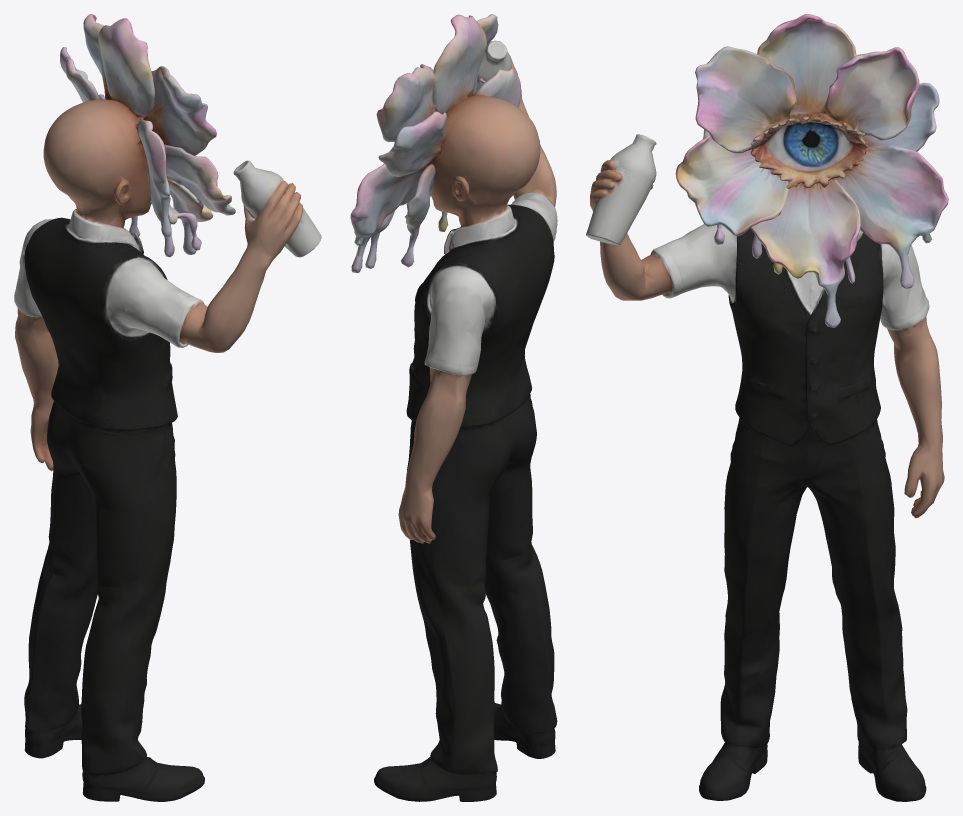
Rendered from bartender.glb.
3 renders of one model, left to right at view 1: azimuth 30°, elevation 25°; view 2: azimuth 150°, elevation 25°; view 3: azimuth 270°, elevation 25°, orthographic. The views are drawn at different scales.
Parts seen in each view (by area): view 1: tripo_node_8f611393-628a-4c04-9a16-76a25f729728; view 2: tripo_node_8f611393-628a-4c04-9a16-76a25f729728; view 3: tripo_node_8f611393-628a-4c04-9a16-76a25f729728.
Boxes of the visible parts, <box> form: tripo_node_8f611393-628a-4c04-9a16-76a25f729728: <box>14,14,321,801</box>; tripo_node_8f611393-628a-4c04-9a16-76a25f729728: <box>350,14,557,801</box>; tripo_node_8f611393-628a-4c04-9a16-76a25f729728: <box>586,14,948,801</box>.
Bounding box in the file's own units: 0.2434 × 1 × 0.4231.
Materials: 1 (1 with a texture image).
